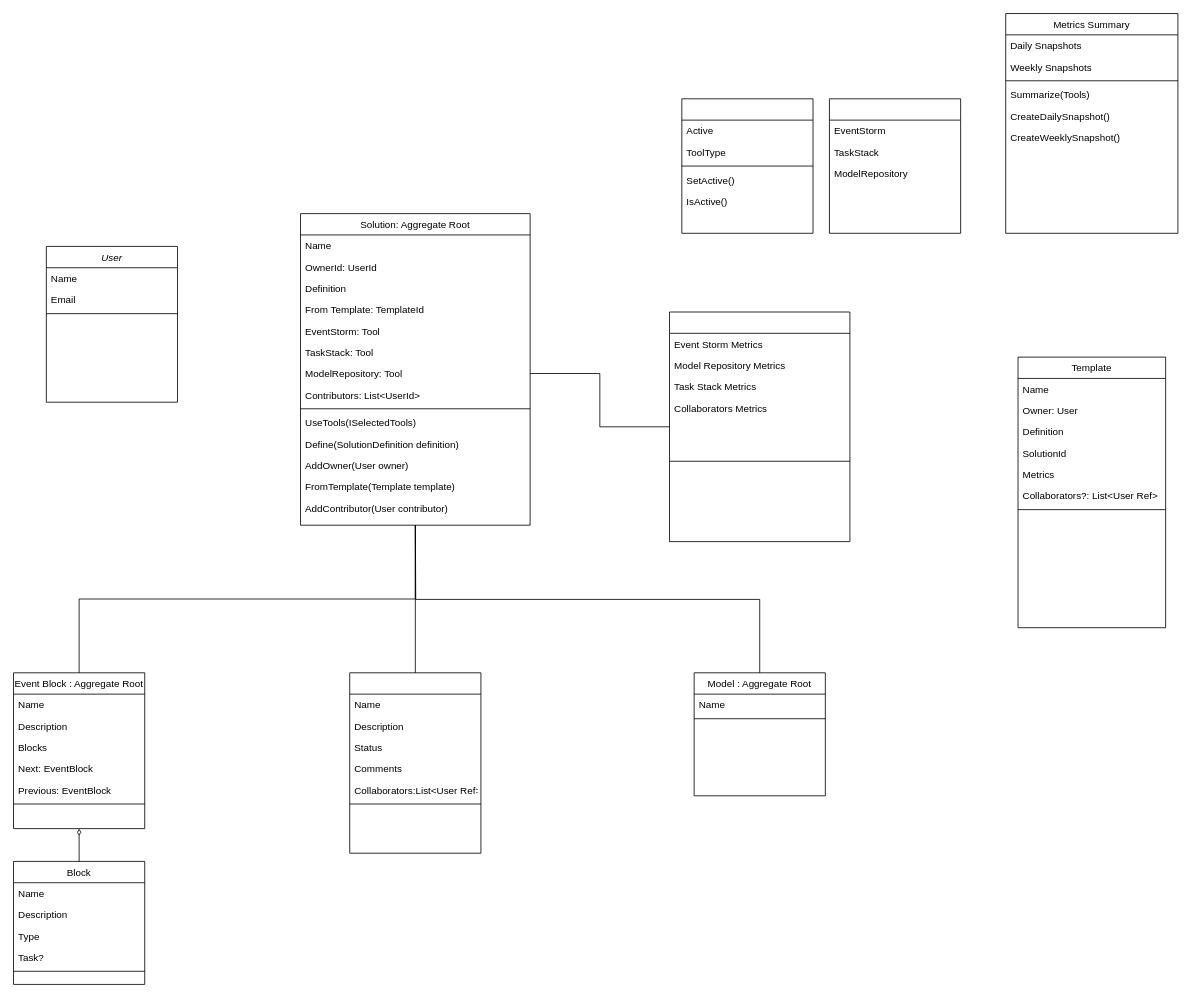
Some shapes in this 1191 by 998 pixel diagram are drawn without their labels. The box of each missing label's shape, as (x1, y1, x2, y2) in pixels:
Metrics Snapshot : Aggregate Root: (669, 311, 850, 542)
Task : Aggregate Root: (349, 672, 481, 853)
Tool : ValueObject: (681, 98, 813, 233)
ToolType: Enum: (829, 98, 961, 233)
